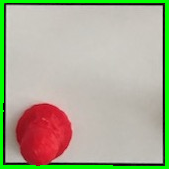Red Pawn: (11, 101, 75, 165)
